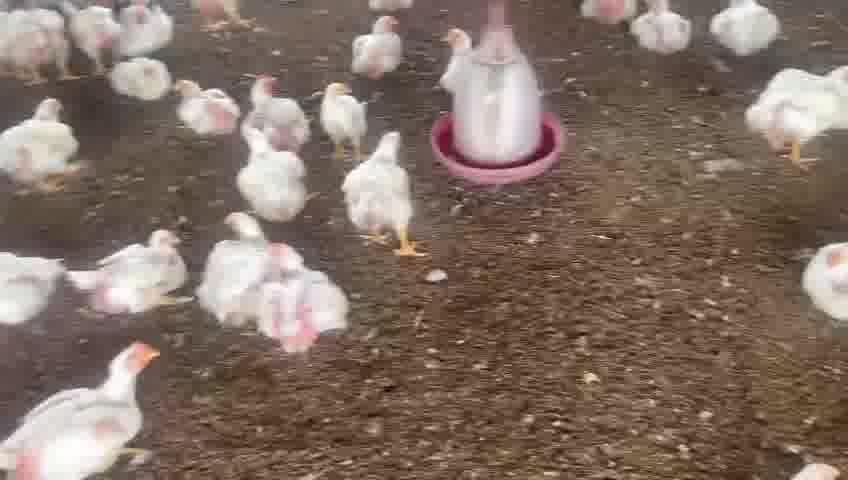Normal: (8, 340, 164, 480), (336, 128, 435, 261), (81, 224, 196, 330), (743, 60, 845, 178), (258, 243, 352, 361), (1, 99, 90, 200), (233, 120, 311, 225), (0, 2, 84, 88), (695, 0, 790, 69), (341, 9, 410, 84), (793, 229, 848, 319), (98, 52, 174, 112), (625, 0, 702, 56), (311, 78, 378, 141), (171, 66, 230, 135), (250, 70, 311, 130)
